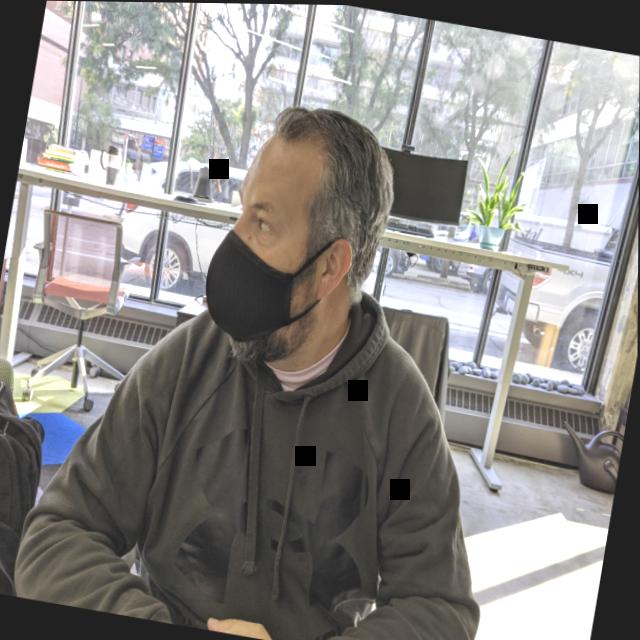Mask: (195, 146, 351, 366)
